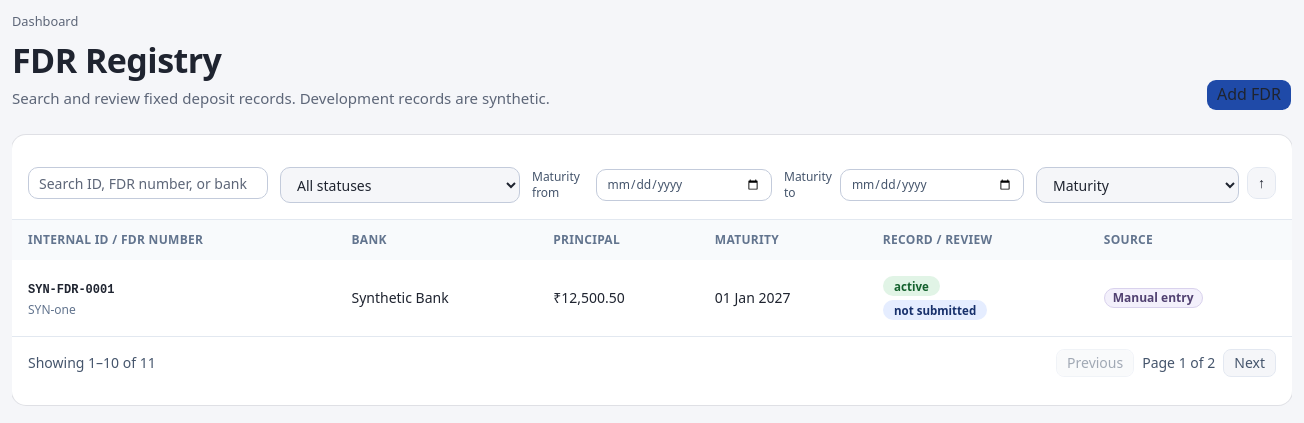
Phase 4 registry pages › renders FDR results and moves to the next page
Expected: the link "SYN-FDR-0001" is shown, [28,283,114,297]
Step 1. Click the button "Next" → (1250, 363), box [1223,349,1276,377]
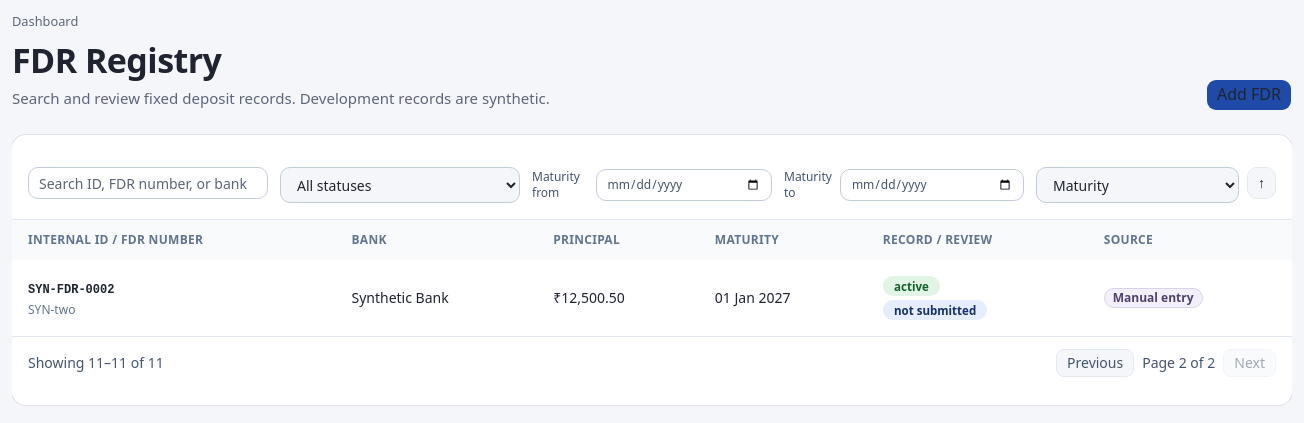
Now the link "SYN-FDR-0002" is shown, box [28,283,114,297]
